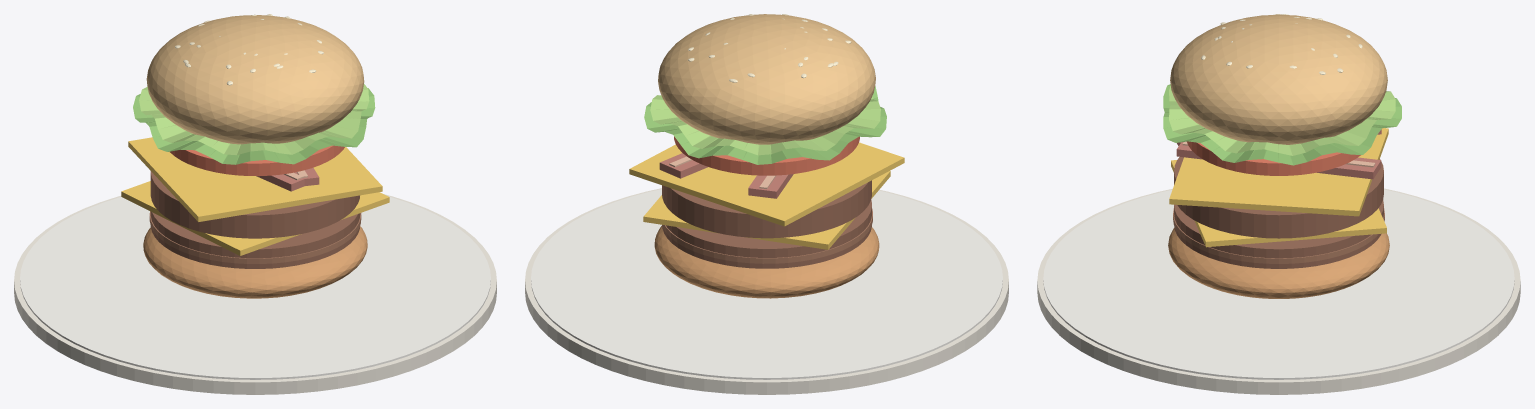
File: burger-duplo.glb
3 views of the same model, side by side, from view 1: azimuth 30°, elevation 25°; view 2: azimuth 150°, elevation 25°; view 3: azimuth 270°, elevation 25° (orthographic).
Visible parts, largest first — view 1: borda_do_prato_2, pao_superior_16, prato_ceramica_1, queijo_superior_8, pao_inferior_3, segunda_carne_7, base_carne_4, alface_ondulada_15, alface_ondulada_14, queijo_6, tomate_13, borda_caramelizada_5 (+1 smaller); view 2: borda_do_prato_2, pao_superior_16, prato_ceramica_1, queijo_superior_8, pao_inferior_3, segunda_carne_7, base_carne_4, alface_ondulada_15, alface_ondulada_14, tomate_13, queijo_6, borda_caramelizada_5 (+2 smaller); view 3: borda_do_prato_2, pao_superior_16, prato_ceramica_1, queijo_superior_8, pao_inferior_3, segunda_carne_7, base_carne_4, alface_ondulada_15, alface_ondulada_14, tomate_13, queijo_6, borda_caramelizada_5 (+1 smaller).
Boxes of the visible parts, x1,y1,x2,y2 form: borda_do_prato_2: [20, 196, 490, 379]; pao_superior_16: [146, 15, 364, 144]; prato_ceramica_1: [14, 194, 496, 394]; queijo_superior_8: [128, 137, 382, 221]; pao_inferior_3: [143, 226, 367, 298]; segunda_carne_7: [150, 171, 359, 238]; base_carne_4: [150, 212, 360, 268]; alface_ondulada_15: [139, 84, 369, 155]; alface_ondulada_14: [133, 88, 375, 164]; queijo_6: [121, 181, 389, 255]; tomate_13: [170, 145, 344, 176]; borda_caramelizada_5: [149, 211, 361, 263]; borda_do_prato_2: [531, 189, 1002, 379]; pao_superior_16: [658, 14, 875, 144]; prato_ceramica_1: [525, 188, 1008, 394]; queijo_superior_8: [629, 142, 904, 226]; pao_inferior_3: [654, 226, 879, 298]; segunda_carne_7: [662, 180, 871, 238]; base_carne_4: [662, 199, 871, 268]; alface_ondulada_15: [650, 95, 880, 155]; alface_ondulada_14: [644, 86, 886, 164]; tomate_13: [674, 136, 859, 175]; queijo_6: [643, 171, 890, 249]; borda_caramelizada_5: [662, 208, 872, 263]; borda_do_prato_2: [1043, 189, 1514, 379]; pao_superior_16: [1170, 14, 1387, 144]; prato_ceramica_1: [1037, 188, 1520, 394]; queijo_superior_8: [1169, 128, 1388, 216]; pao_inferior_3: [1168, 228, 1389, 298]; segunda_carne_7: [1174, 157, 1383, 238]; base_carne_4: [1174, 200, 1383, 268]; alface_ondulada_15: [1169, 86, 1395, 155]; alface_ondulada_14: [1163, 84, 1401, 165]; tomate_13: [1187, 141, 1360, 175]; queijo_6: [1171, 160, 1386, 247]; borda_caramelizada_5: [1173, 208, 1384, 263].
Bounding box in the file's own units: 0.244 × 0.1445 × 0.244.
